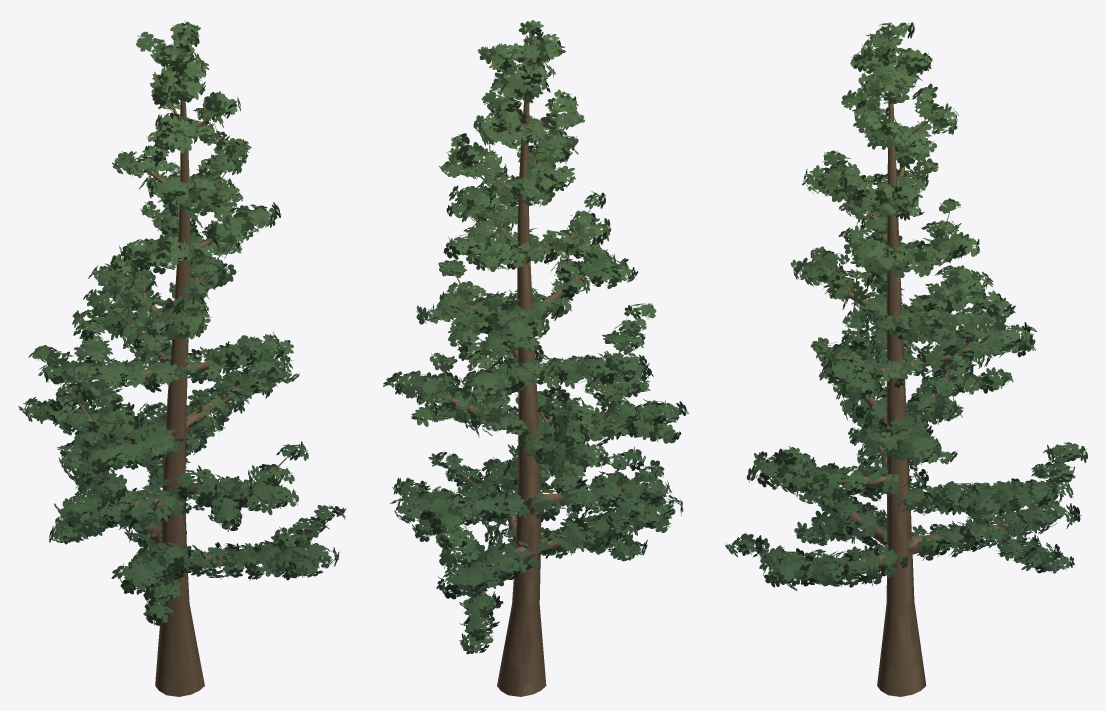
File: tree.gltf
3 renders of one model, left to right at view 1: azimuth 30°, elevation 25°; view 2: azimuth 150°, elevation 25°; view 3: azimuth 270°, elevation 25°, orthographic.
Visible parts, largest first — view 1: Tree_LOD0; view 2: Tree_LOD0; view 3: Tree_LOD0.
Boxes of the visible parts, box(x1,y1,x2,y2) form: Tree_LOD0: box(18, 20, 346, 696); Tree_LOD0: box(383, 20, 688, 696); Tree_LOD0: box(725, 22, 1087, 696).
Size of the model in its own units: 9.98 by 23.18 by 11.79.
Materials: 2 (2 with a texture image).
